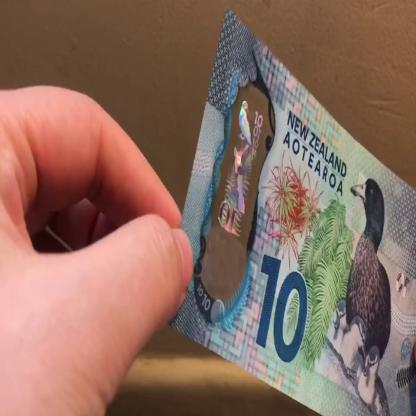10F: (211, 93, 264, 237)
